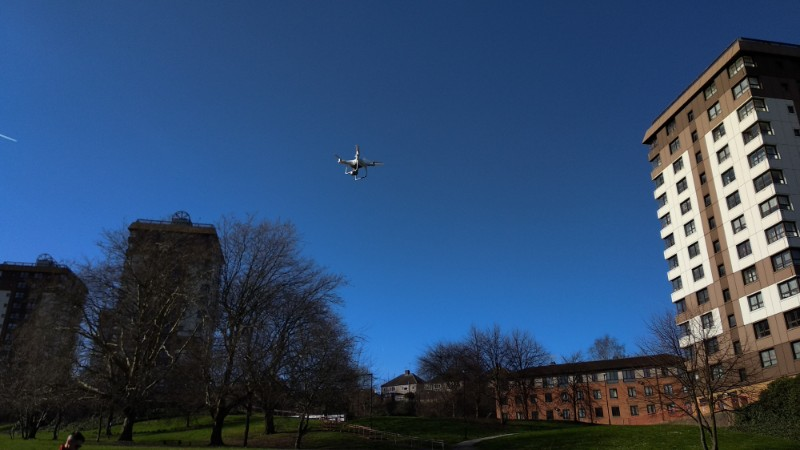drone: (333, 142, 386, 183)
